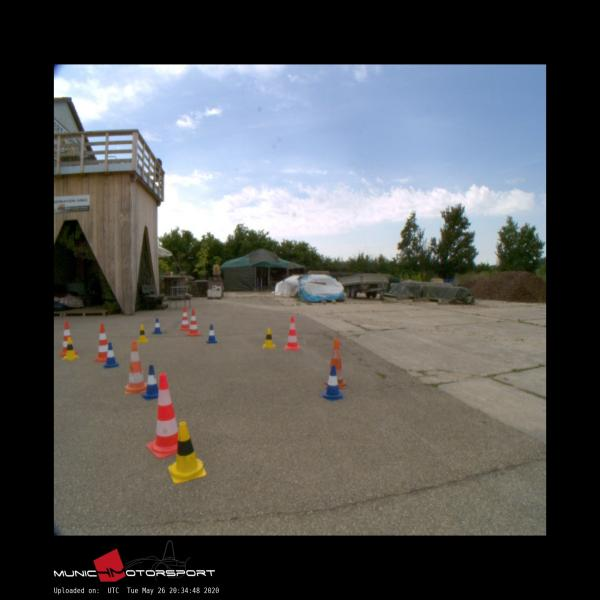blue_cone: (320, 366, 345, 400), (142, 366, 160, 399), (103, 344, 119, 366), (206, 324, 217, 342), (152, 319, 162, 333)
large_orange_cone: (146, 373, 185, 457), (125, 340, 149, 393), (324, 338, 346, 387), (93, 324, 113, 361), (60, 322, 77, 354), (284, 316, 299, 349), (187, 309, 201, 335), (179, 306, 190, 330)
yellow_cone: (168, 422, 206, 482), (62, 337, 79, 360), (261, 327, 275, 348), (137, 325, 148, 341)
